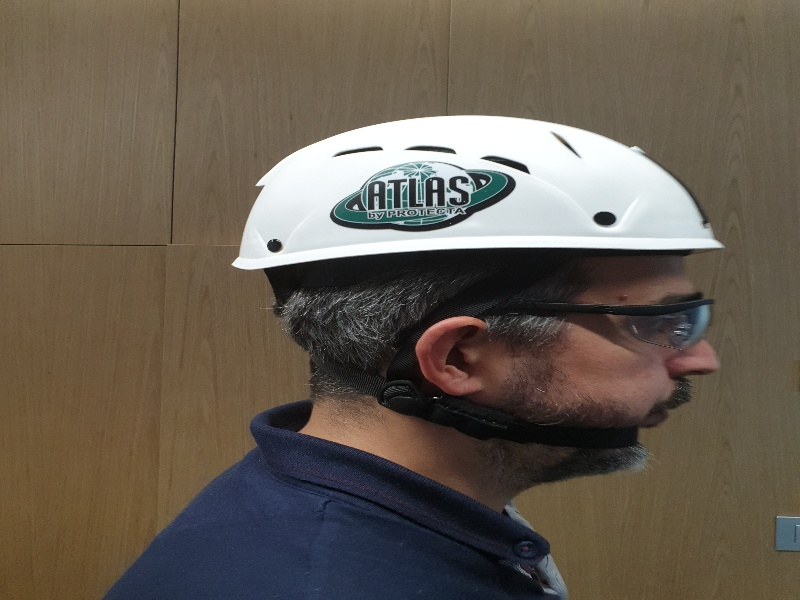Baret: (233, 114, 724, 267)
Gozluk: (446, 294, 715, 345)
